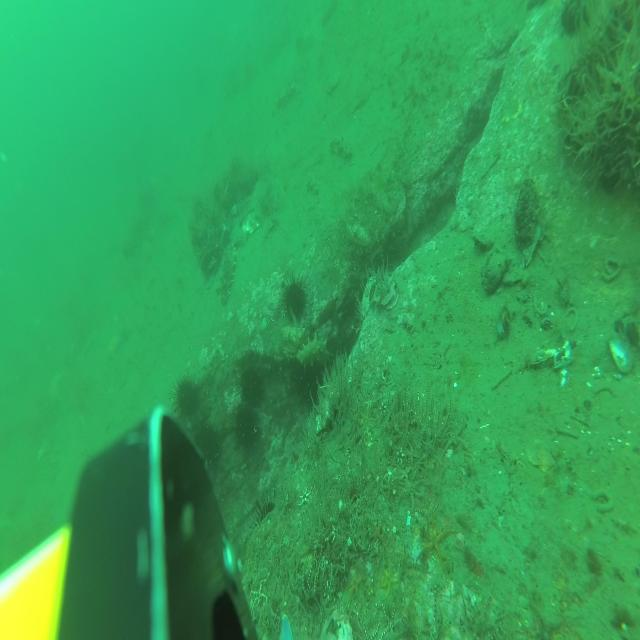echinus: (252, 489, 284, 546), (282, 271, 310, 328), (233, 403, 261, 458), (238, 366, 266, 413), (173, 377, 202, 422), (298, 358, 323, 409), (196, 422, 221, 468)
holothurian: (297, 334, 331, 372), (220, 242, 236, 309), (330, 134, 352, 163), (277, 84, 297, 111), (319, 0, 338, 27), (296, 31, 314, 52), (306, 174, 320, 197)
scallop: (528, 438, 554, 475), (242, 211, 260, 235), (324, 70, 340, 94)
starfish: (419, 514, 453, 563), (379, 562, 401, 597), (346, 568, 365, 602)
